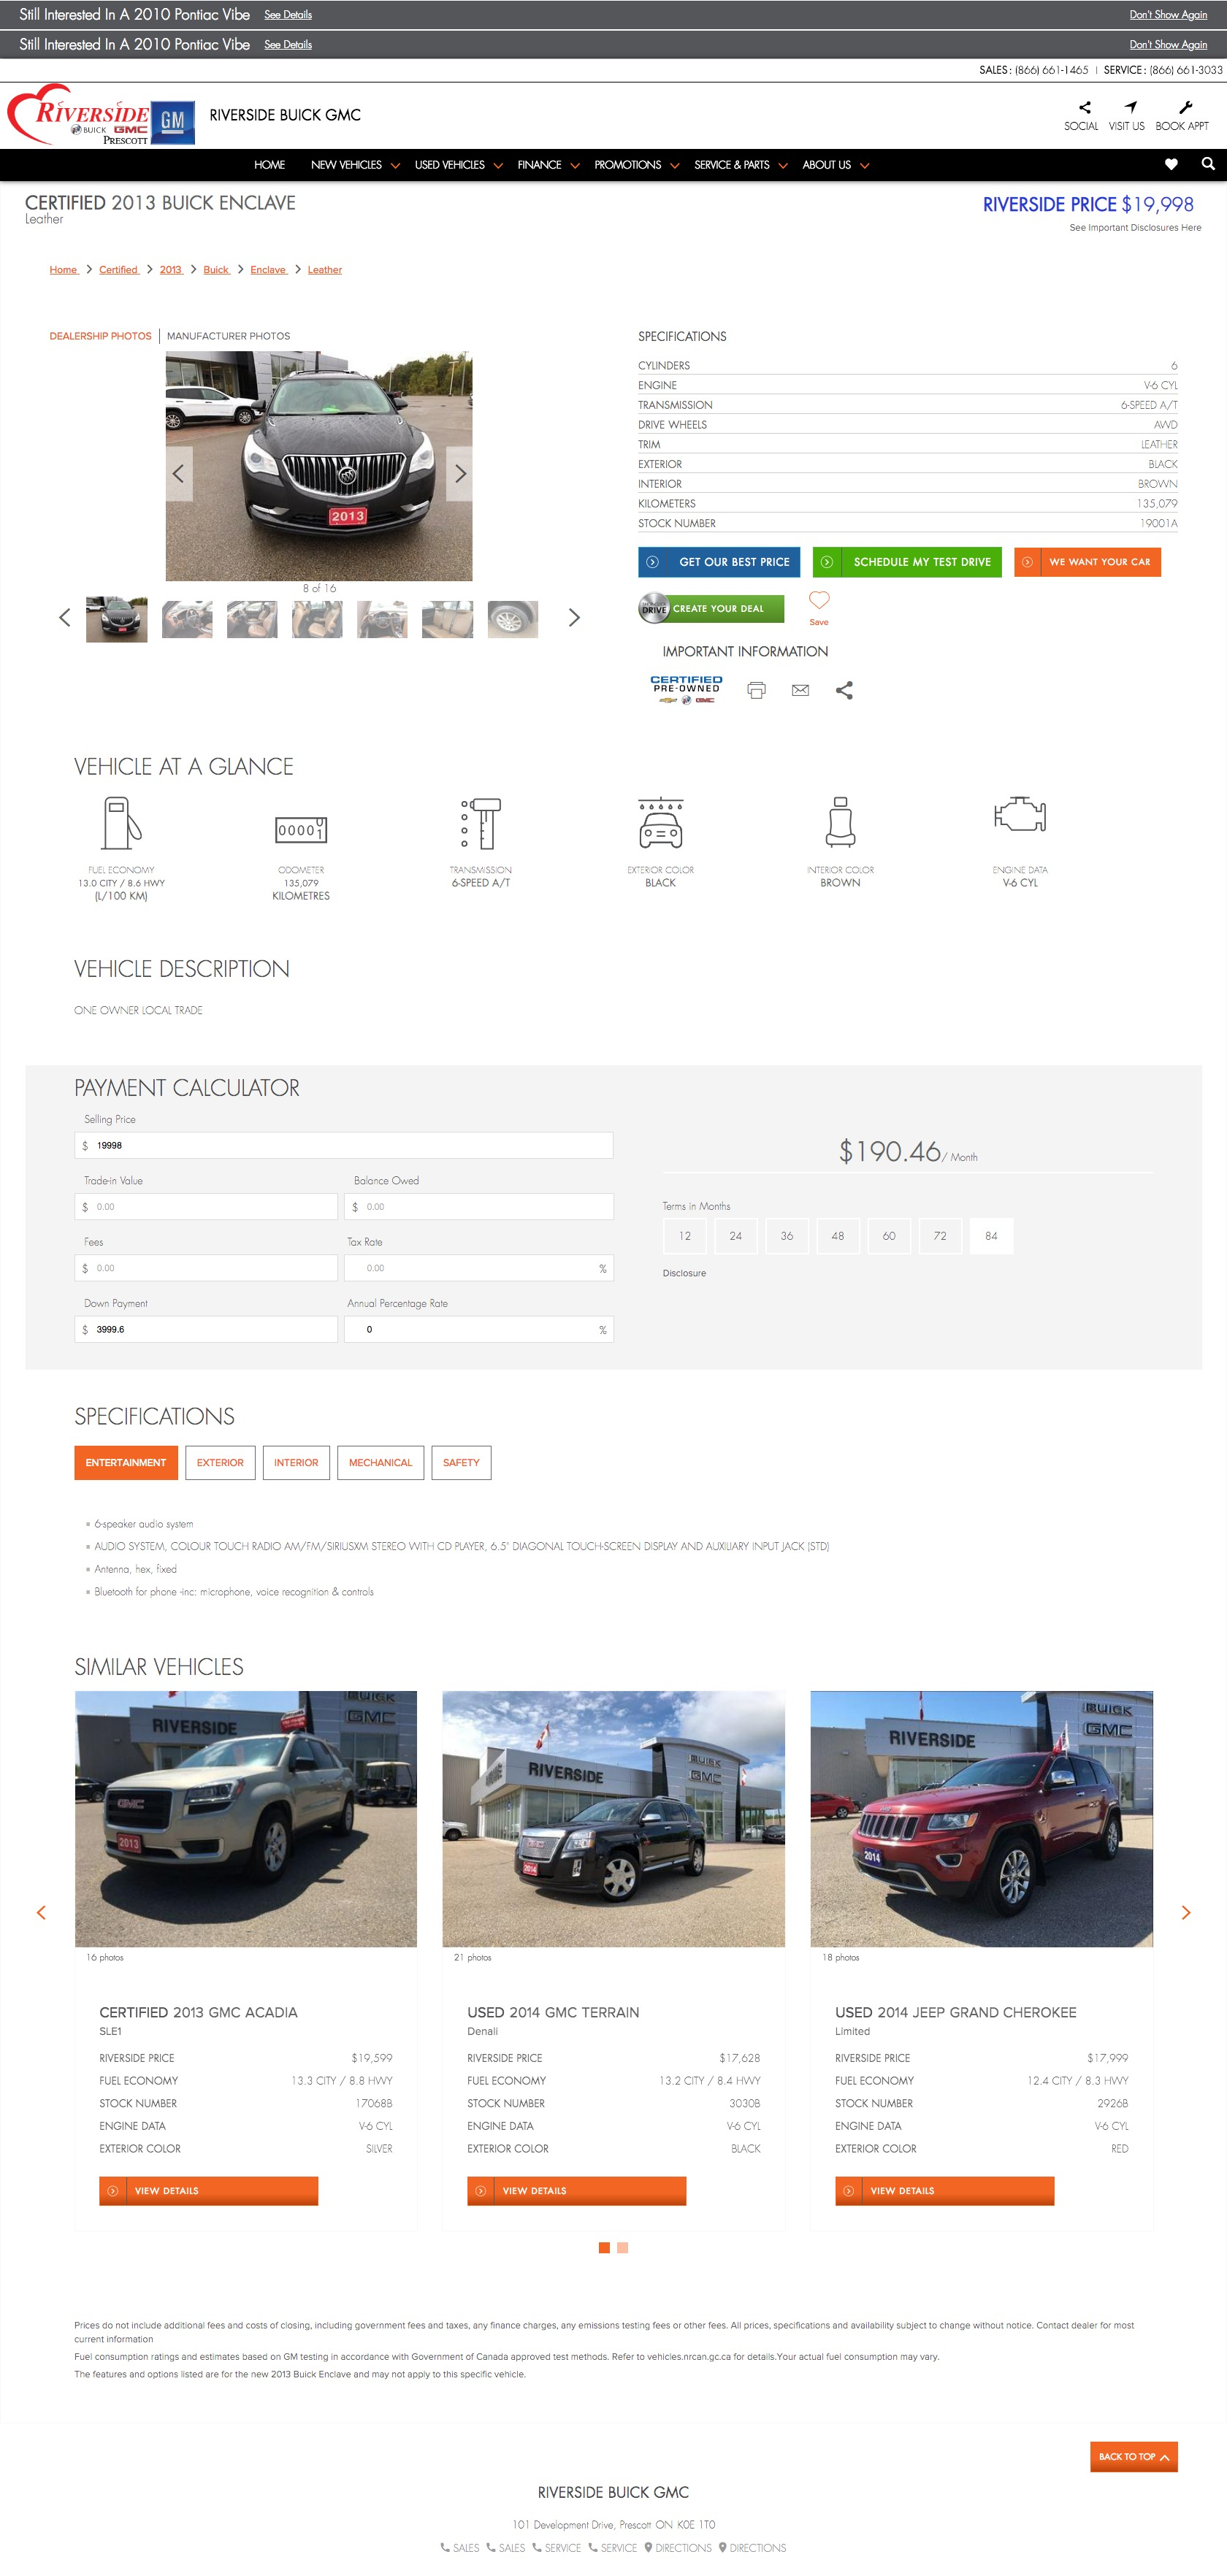car: (568, 608, 581, 629)
